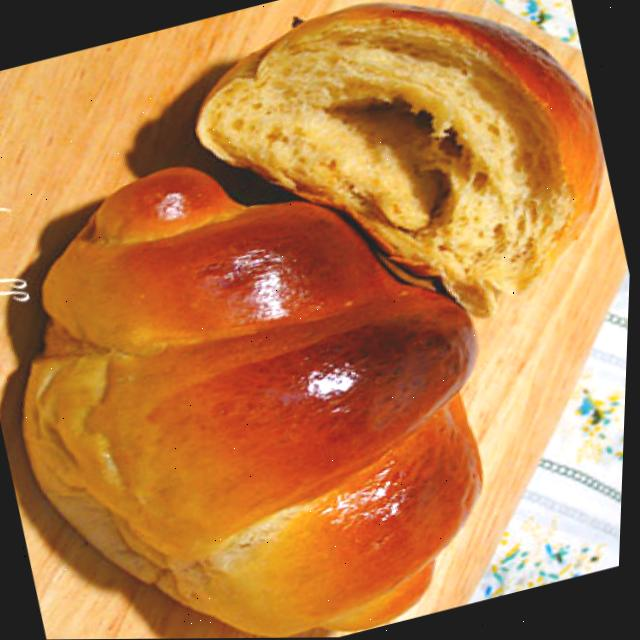面包点心: (0, 105, 547, 640)
